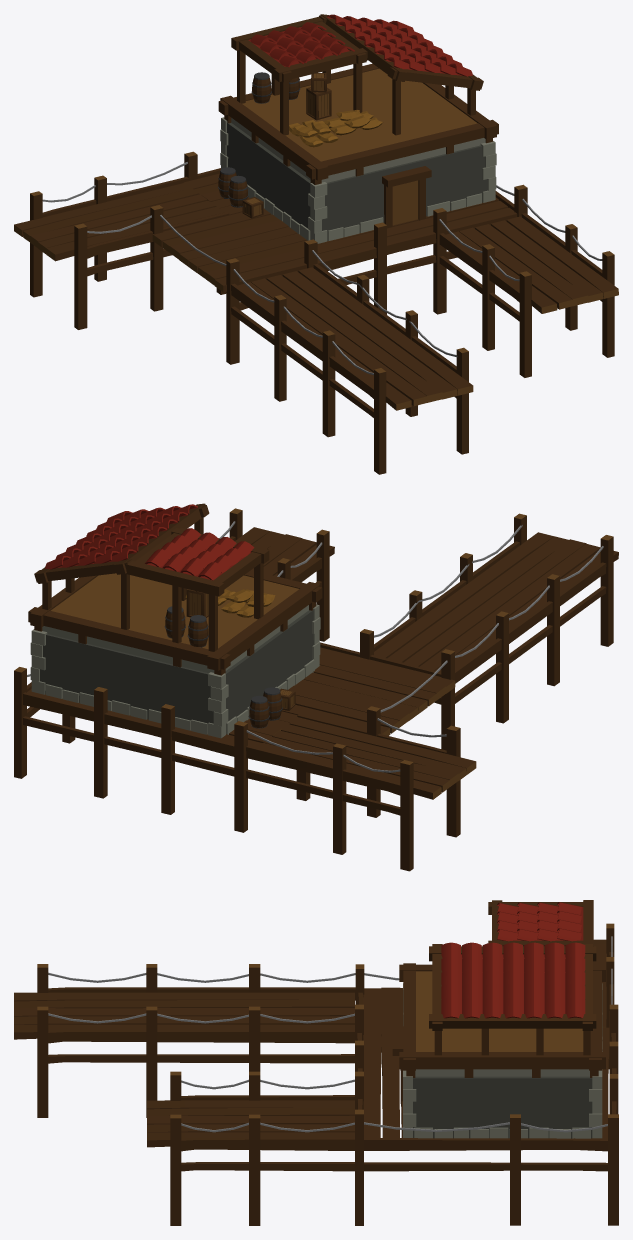
The model's file is Port_SecondAge_Level2.obj.
3 renders of one model, top to bottom at view 1: azimuth 30°, elevation 25°; view 2: azimuth 150°, elevation 25°; view 3: azimuth 270°, elevation 25°, orthographic. The views are drawn at different scales.
Parts seen in each view (by area): view 1: Port_SecondAge_Level2_Cube.303; view 2: Port_SecondAge_Level2_Cube.303; view 3: Port_SecondAge_Level2_Cube.303.
Boxes of the visible parts, box(x1,y1,x2,y2) form: Port_SecondAge_Level2_Cube.303: box(14, 14, 618, 474); Port_SecondAge_Level2_Cube.303: box(14, 503, 618, 871); Port_SecondAge_Level2_Cube.303: box(14, 900, 618, 1225).
Bounding box in the file's own units: 2.3 × 1.25 × 2.88.
